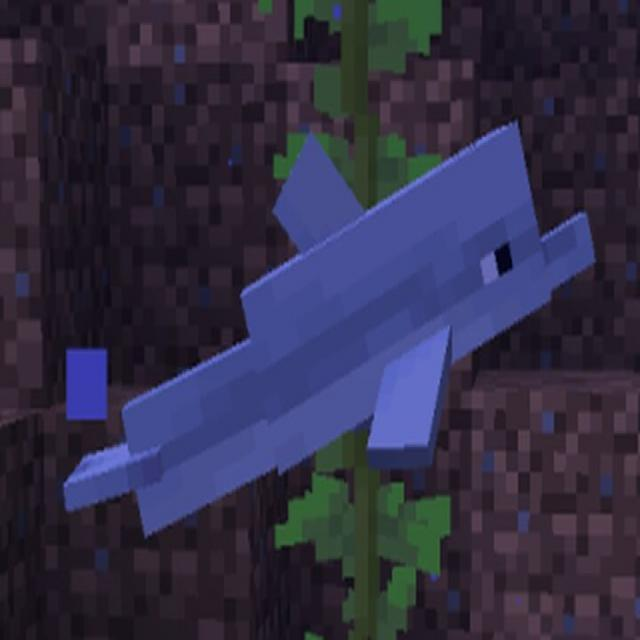Dolphin: (61, 112, 598, 545)
